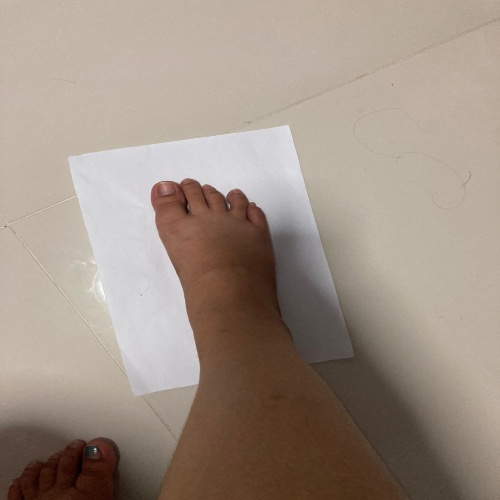Top_Foot: (52, 110, 398, 409)
